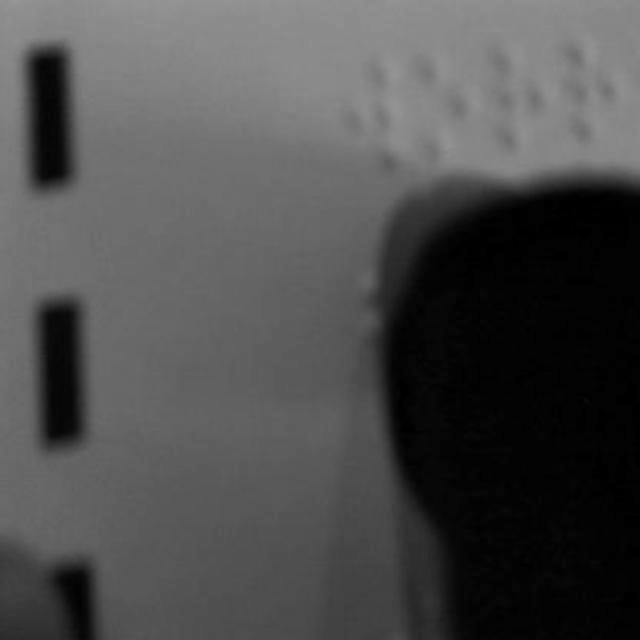braiile: (558, 34, 632, 168), (415, 41, 487, 170), (345, 42, 409, 182), (491, 36, 555, 172)
